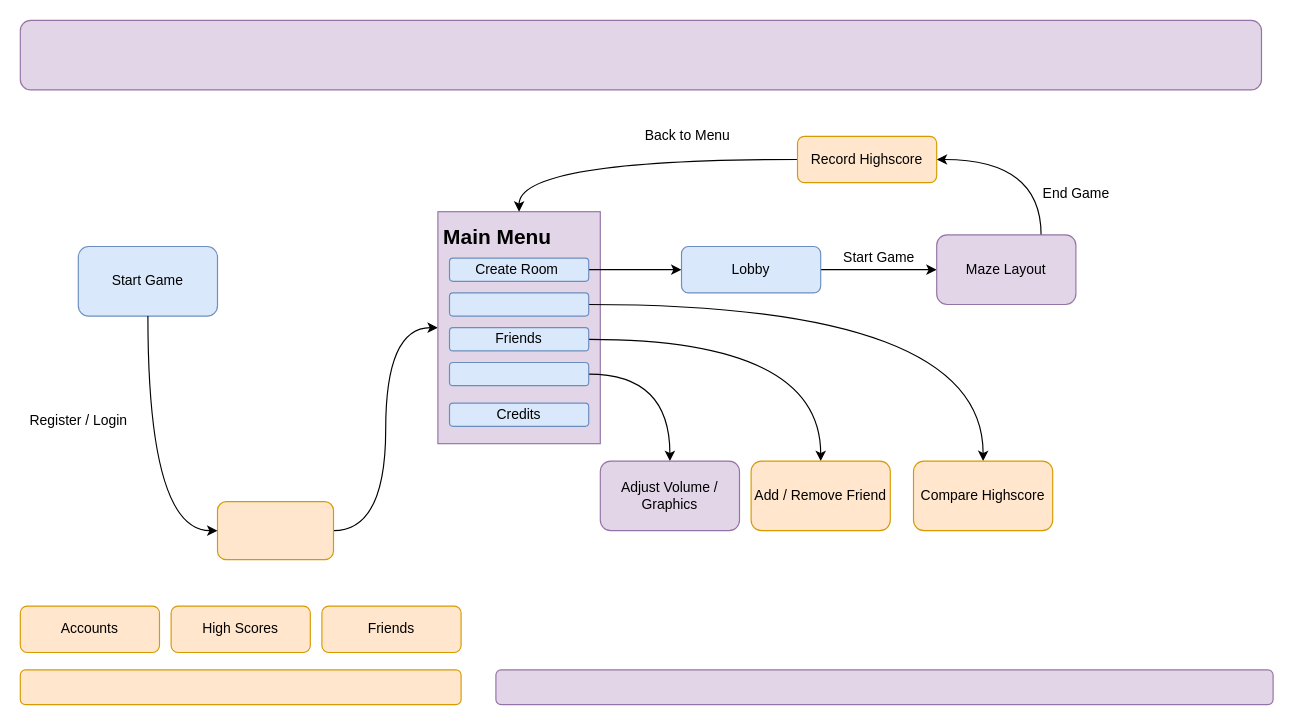
Some shapes in this 1293 by 725 pixel diagram are drawn without their labels. Each missing label, with the box of its shape:
Client: (495, 669, 1273, 705)
Inescapable: (19, 19, 1262, 90)
Leaderboard: (448, 292, 589, 316)
Register Account / Login Account: (216, 501, 334, 560)
Server: (19, 669, 461, 705)
Settings: (448, 361, 589, 386)
